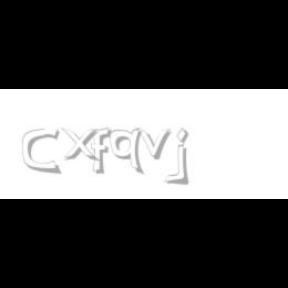C: (22, 128, 60, 174)
f: (91, 128, 115, 174)
j: (174, 128, 202, 186)
q: (109, 128, 145, 176)
v: (135, 128, 175, 160)
x: (61, 128, 103, 162)
